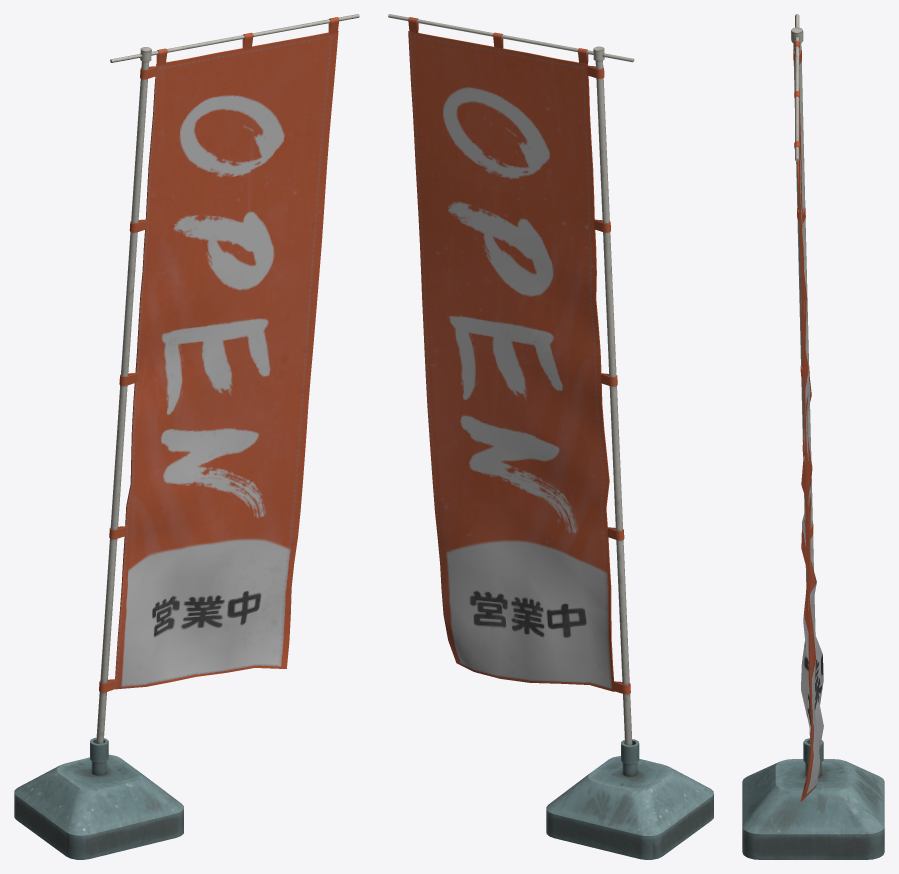
Rendered from bannerflagB.fbx.
3 renders of one model, left to right at view 1: azimuth 30°, elevation 25°; view 2: azimuth 150°, elevation 25°; view 3: azimuth 270°, elevation 25°, orthographic. The views are drawn at different scales.
Parts seen in each view (by area): view 1: bannerflagB; view 2: bannerflagB; view 3: bannerflagB.
Boxes of the visible parts, left/top/right/bottom form: bannerflagB: left=14, top=14, right=359, bottom=859; bannerflagB: left=388, top=14, right=713, bottom=859; bannerflagB: left=742, top=14, right=884, bottom=859.
Bounding box in the file's own units: 93.68 × 223 × 35.
Materials: 1 (1 with a texture image).
